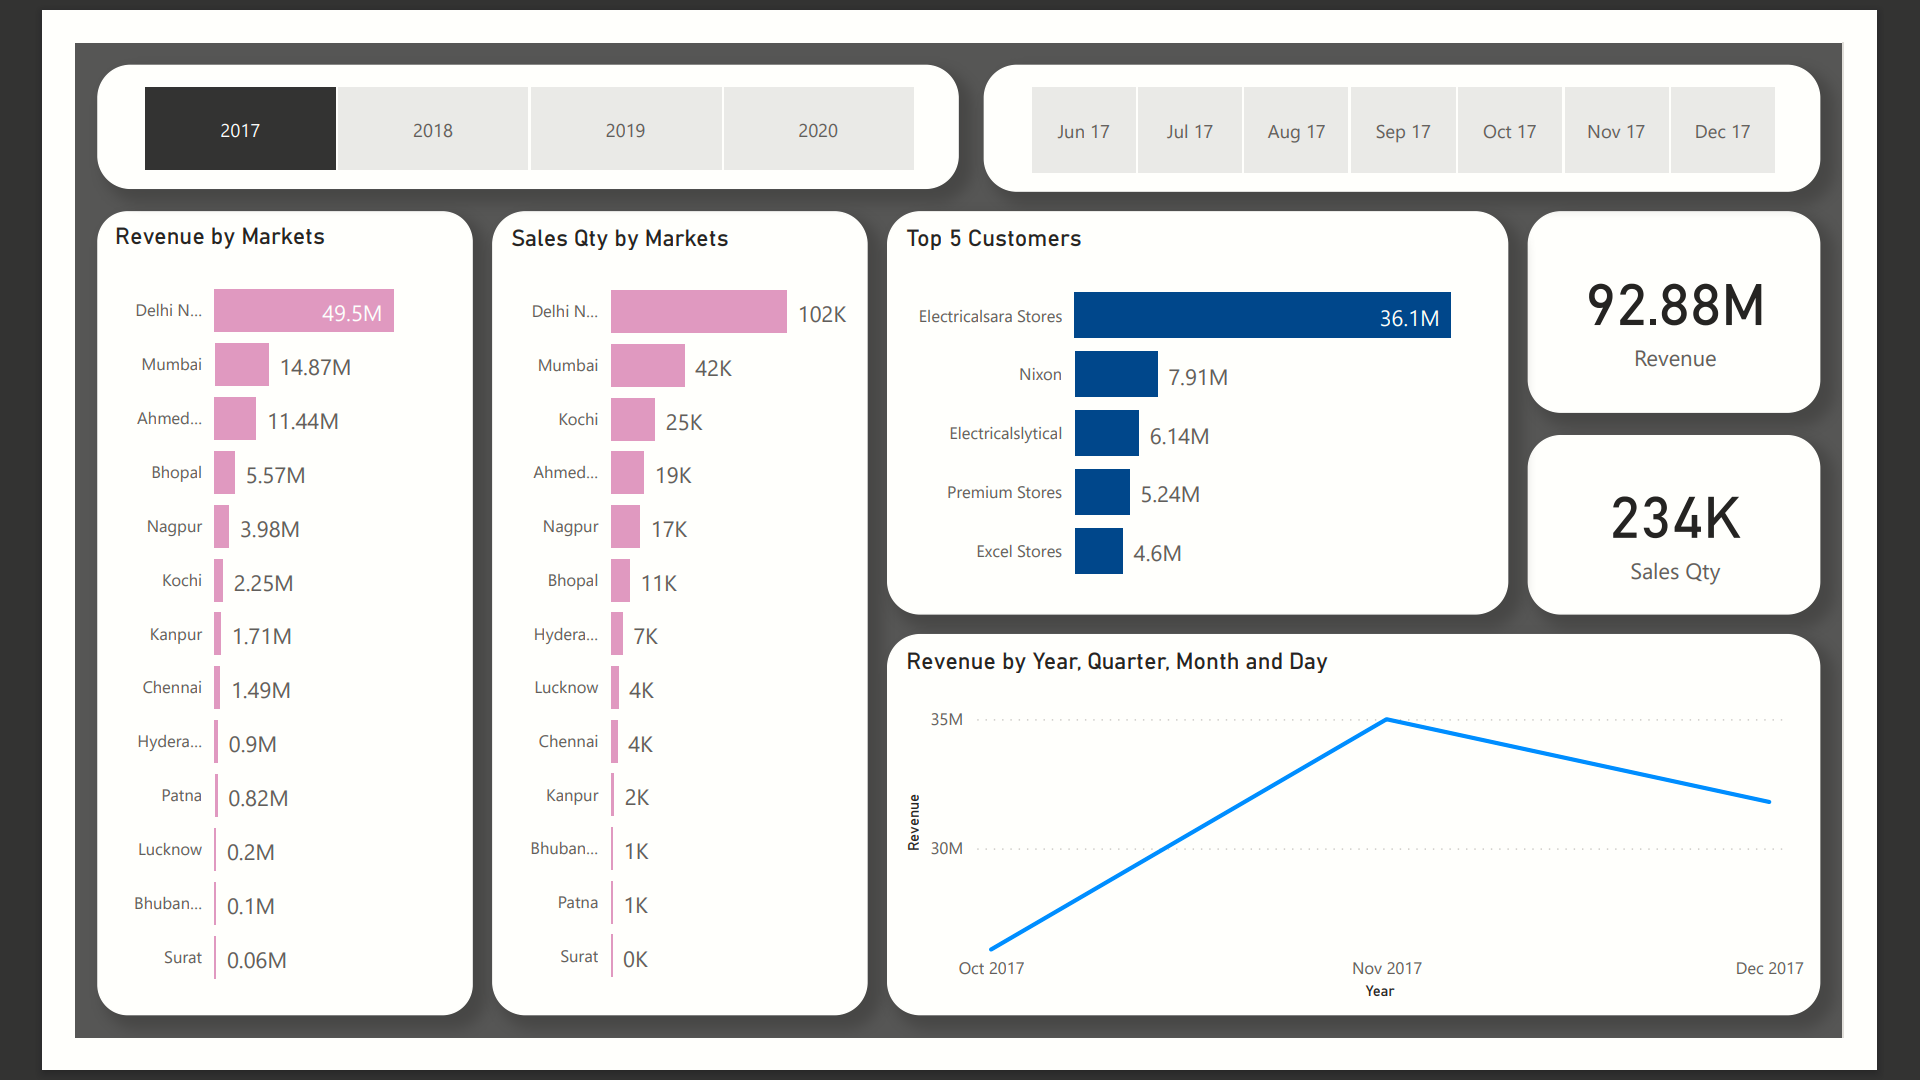

The page's visual inventory and layout, read from the dashboard file:
{"tool":"powerbi","page":{"name":"Page 1","canvas":[1280,720],"ordinal":0},"visuals":[{"type":"card","fields":{"Values":["BaseMeasures (2).Revenue"]},"box":[1052,122,212,146],"z":0},{"type":"card","fields":{"Values":["BaseMeasures (2).Sales Qty"]},"box":[1052,284,212,130],"z":1000},{"type":"clusteredBarChart","title":"Revenue by Markets","fields":{"Category":["sales markets.markets_name"],"Y":["BaseMeasures (2).Revenue"]},"box":[16,122,272,582],"z":2000},{"type":"clusteredBarChart","title":"Sales Qty by Markets","fields":{"Category":["sales markets.markets_name"],"Y":["BaseMeasures (2).Sales Qty"]},"box":[302,122,272,582],"z":3000},{"type":"slicer","fields":{"Values":["sales date.year"]},"box":[16,16,624,90],"z":4000},{"type":"slicer","fields":{"Values":["sales date.cy_date"]},"box":[658,16,606,92],"z":5000},{"type":"barChart","title":"Top 5 Customers","fields":{"Y":["BaseMeasures (2).Revenue"],"Category":["sales customers.custmer_name"]},"box":[588,122,450,292],"z":6000},{"type":"lineChart","fields":{"Category":["sales date.cy_date.Variation.Date Hierarchy.Year","sales date.cy_date.Variation.Date Hierarchy.Quarter","sales date.cy_date.Variation.Date Hierarchy.Month","sales date.cy_date.Variation.Date Hierarchy.Day"],"Y":["BaseMeasures (2).Revenue"]},"box":[588,428,676,276],"z":8000}]}

Visuals, with their boxes in screenshot pixels (x1, y1, x2, y2), scaled from the page's 1280x720 canvas onto the 1920x1080 screenshot:
card - BaseMeasures (2).Revenue: [1578,183,1896,402]
card - BaseMeasures (2).Sales Qty: [1578,426,1896,621]
"Revenue by Markets" clusteredBarChart: [24,183,432,1056]
"Sales Qty by Markets" clusteredBarChart: [453,183,861,1056]
slicer - sales date.year: [24,24,960,159]
slicer - sales date.cy_date: [987,24,1896,162]
"Top 5 Customers" barChart: [882,183,1557,621]
lineChart - sales date.cy_date.Variation.Date Hierarchy.Year x sales date.cy_date.Variation.Date Hierarchy.Quarter: [882,642,1896,1056]
